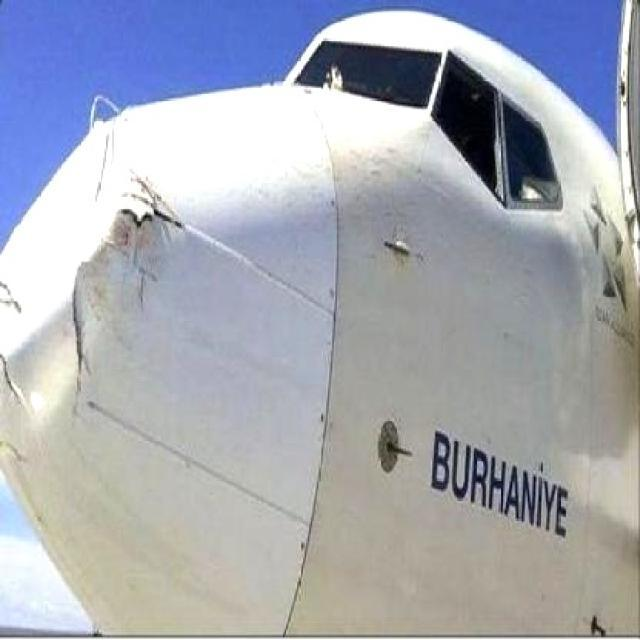dent: (3, 109, 165, 365)
